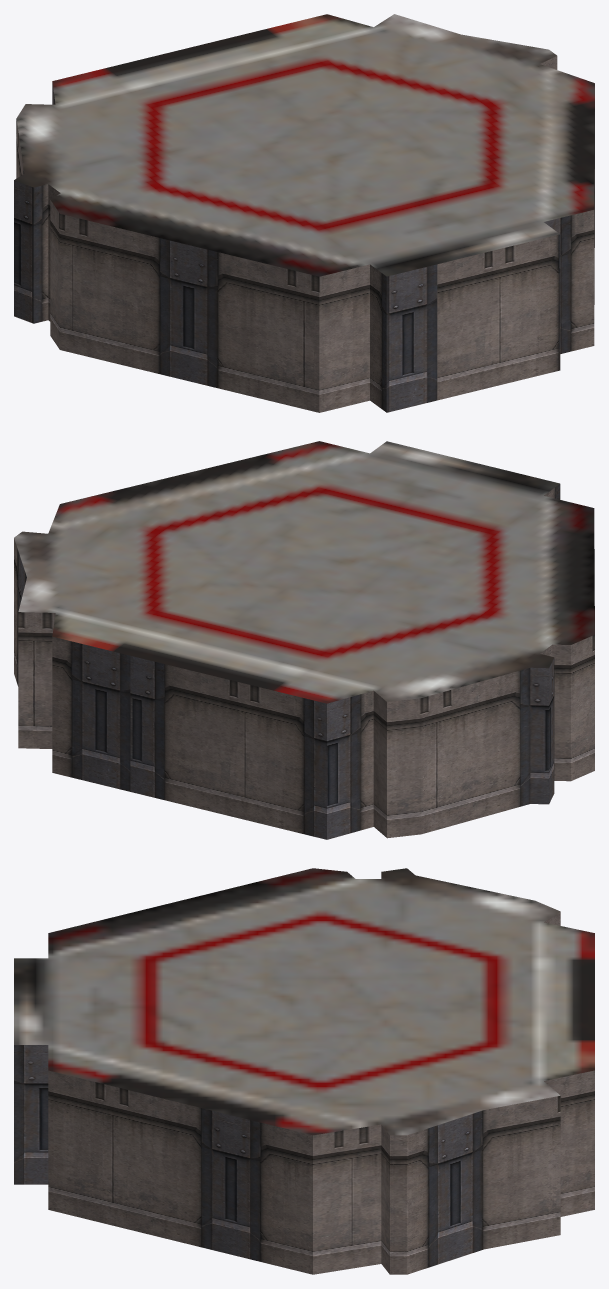
The model's file is bsealed_light_42.glb.
3 views of the same model, one above another, from view 1: azimuth 30°, elevation 25°; view 2: azimuth 150°, elevation 25°; view 3: azimuth 270°, elevation 25° (orthographic). The views are drawn at different scales.
Visible parts, largest first — view 1: buildings/saxarba/bsealed_light/bsealed_light_42; view 2: buildings/saxarba/bsealed_light/bsealed_light_42; view 3: buildings/saxarba/bsealed_light/bsealed_light_42.
Boxes of the visible parts, left/top/right/bottom form: buildings/saxarba/bsealed_light/bsealed_light_42: left=14, top=14, right=594, bottom=412; buildings/saxarba/bsealed_light/bsealed_light_42: left=14, top=441, right=594, bottom=839; buildings/saxarba/bsealed_light/bsealed_light_42: left=14, top=868, right=594, bottom=1274.
Size of the model in its own units: 74 by 18 by 68.
